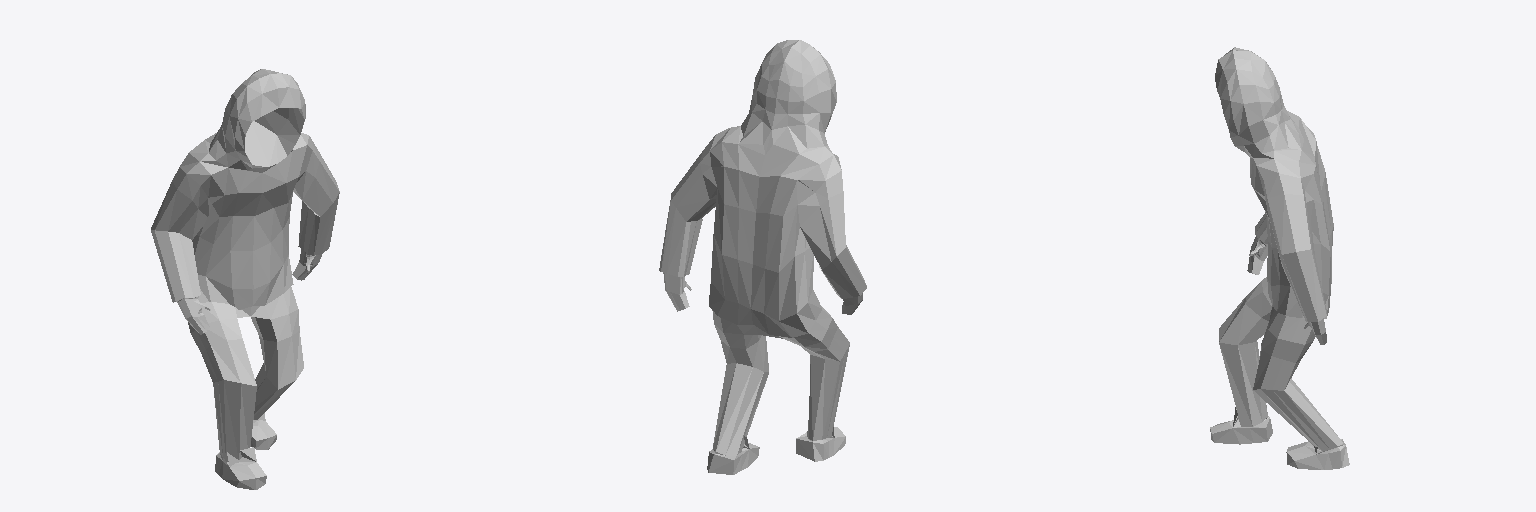
File: Shadowmanv_000035.obj
3 renders of one model, left to right at view 1: azimuth 30°, elevation 25°; view 2: azimuth 150°, elevation 25°; view 3: azimuth 270°, elevation 25°, orthographic.
Parts seen in each view (by area): view 1: Cube.000; view 2: Cube.000; view 3: Cube.000.
Part boxes in pixels (left/top/right/bottom): Cube.000: left=151, top=69, right=339, bottom=489; Cube.000: left=659, top=40, right=866, bottom=474; Cube.000: left=1210, top=47, right=1349, bottom=469.
Bounding box in the file's own units: 5.11 × 10.96 × 3.44.